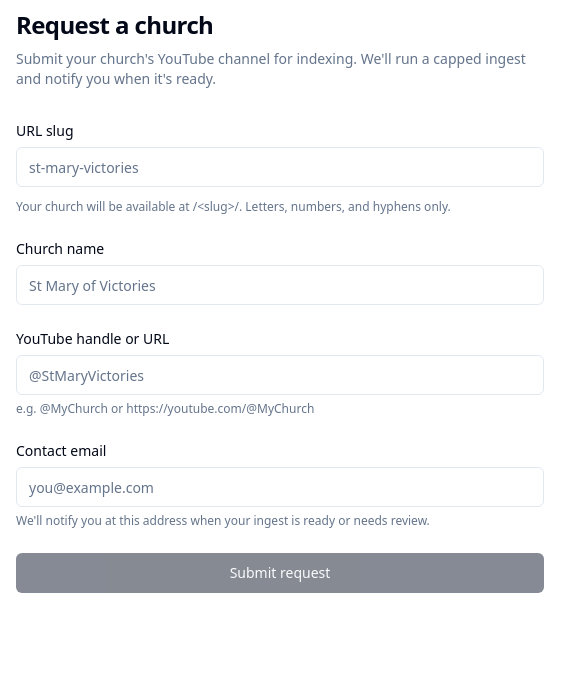
IngestPage › channel preflight callouts › unknown_handle — shows unresolved error, hides playlist picker, disables submit
The width and height of the screenshot is (561, 700).
Type "@TestChannel" into the field labelled "YouTube handle or URL". click: (280, 375)
box: [16, 355, 544, 395]
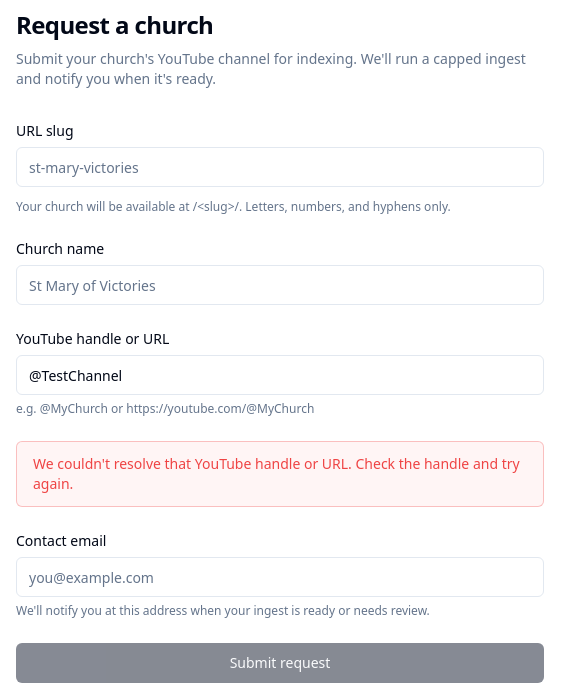
Expected: the button "Submit request" is disabled, [16, 643, 544, 683]
Result: the text "couldn't resolve" is shown at [33, 454, 520, 493]
